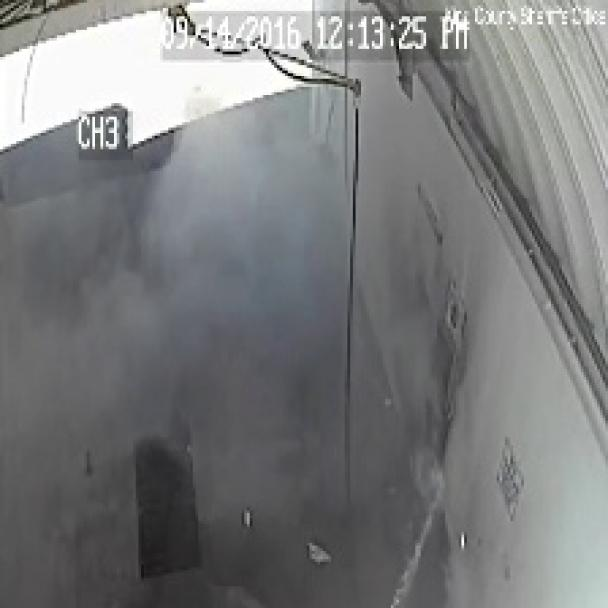smoke: (90, 81, 503, 537)
